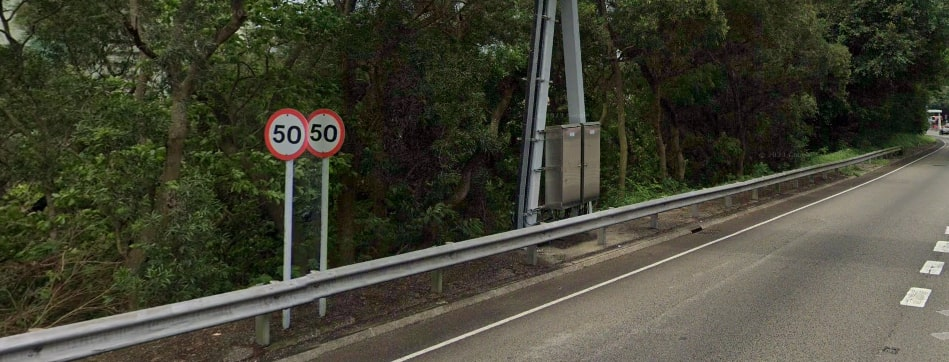Speed Limit: (266, 100, 307, 163), (309, 105, 350, 166)
